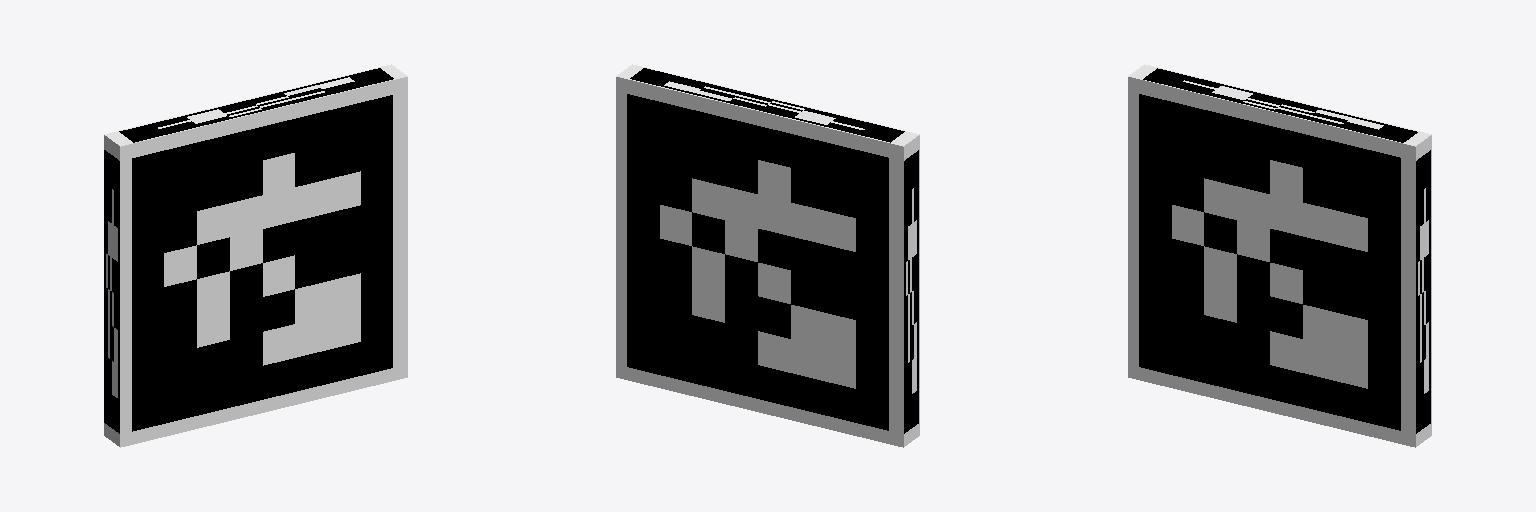
The picture shows the model from 3 angles: view 1: azimuth 30°, elevation 25°; view 2: azimuth 150°, elevation 25°; view 3: azimuth 330°, elevation 25°; orthographic projection.
Parts seen in each view (by area): view 1: Cube; view 2: Cube; view 3: Cube.
Part boxes in pixels (bbox=[...]): Cube: bbox=[104, 64, 407, 447]; Cube: bbox=[616, 64, 919, 447]; Cube: bbox=[1128, 64, 1431, 447].
Bounding box in the file's own units: 2 × 2 × 0.2.
1 materials, 1 textured.